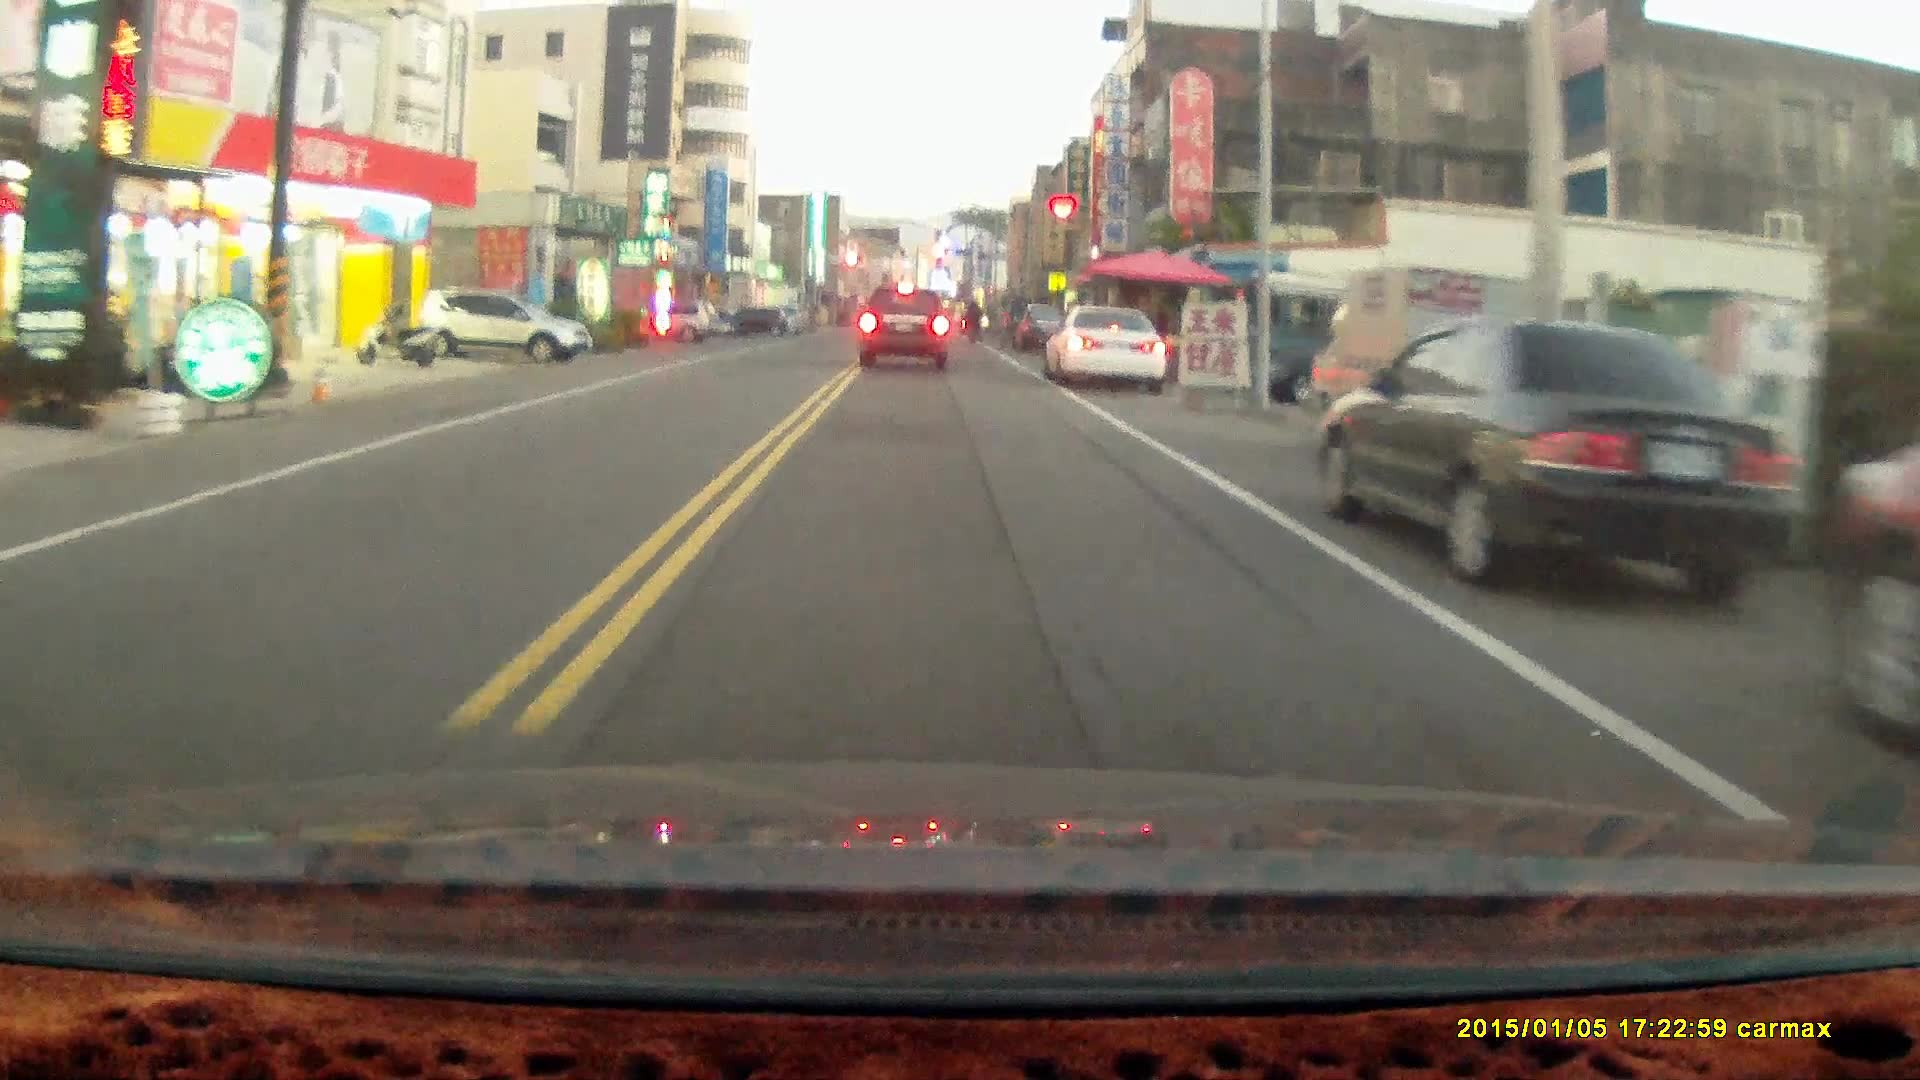vehicle: (1312, 313, 1809, 607), (1311, 255, 1540, 431), (414, 286, 589, 363), (1040, 303, 1170, 394), (858, 276, 951, 368)
